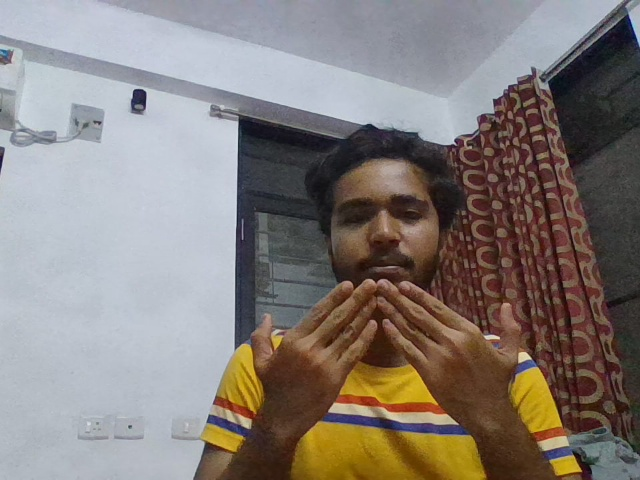Thank You: (238, 267, 547, 462)
